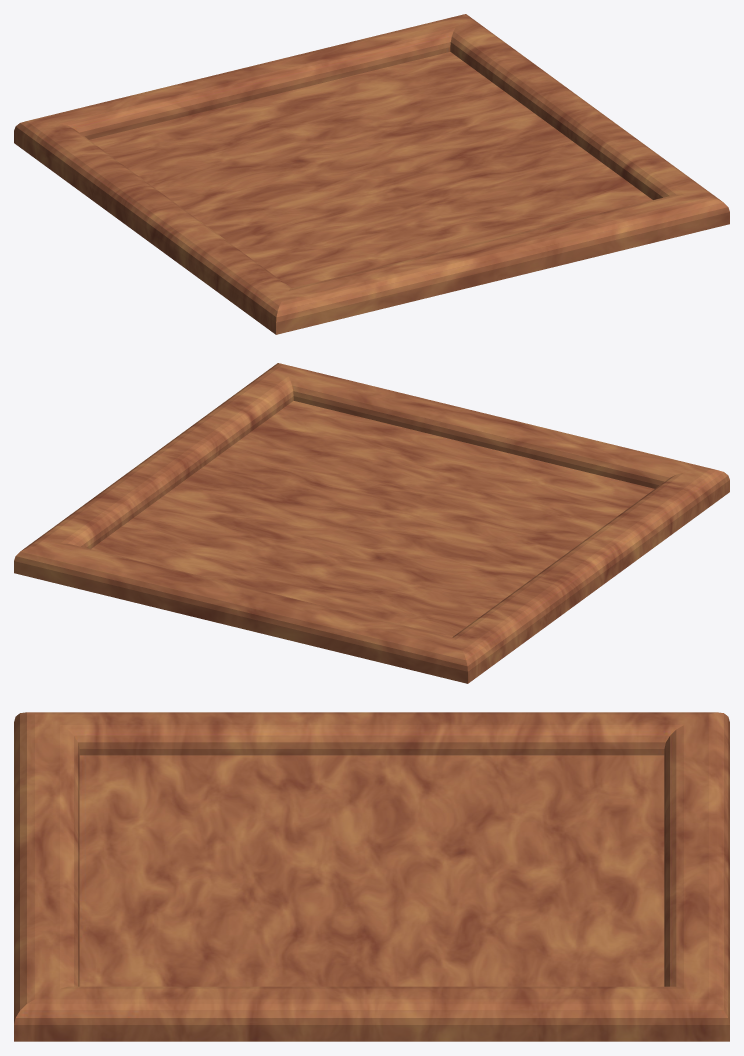
3 renders of one model, top to bottom at view 1: azimuth 30°, elevation 25°; view 2: azimuth 150°, elevation 25°; view 3: azimuth 270°, elevation 25°, orthographic. The views are drawn at different scales.
Visible parts, largest first — view 1: base; view 2: base; view 3: base.
Boxes of the visible parts, box(x1,y1,x2,y2) form: base: box(14, 14, 729, 334); base: box(14, 363, 729, 683); base: box(14, 712, 729, 1041).
Size of the model in its own units: 11.68 by 0.6024 by 11.68.
1 material, 1 textured.
